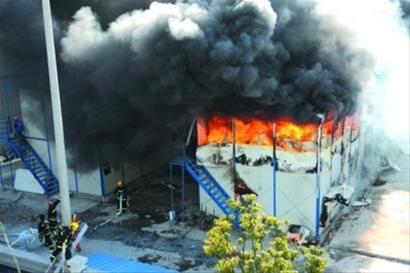fire: (194, 112, 364, 149)
smoke: (60, 7, 349, 110)
